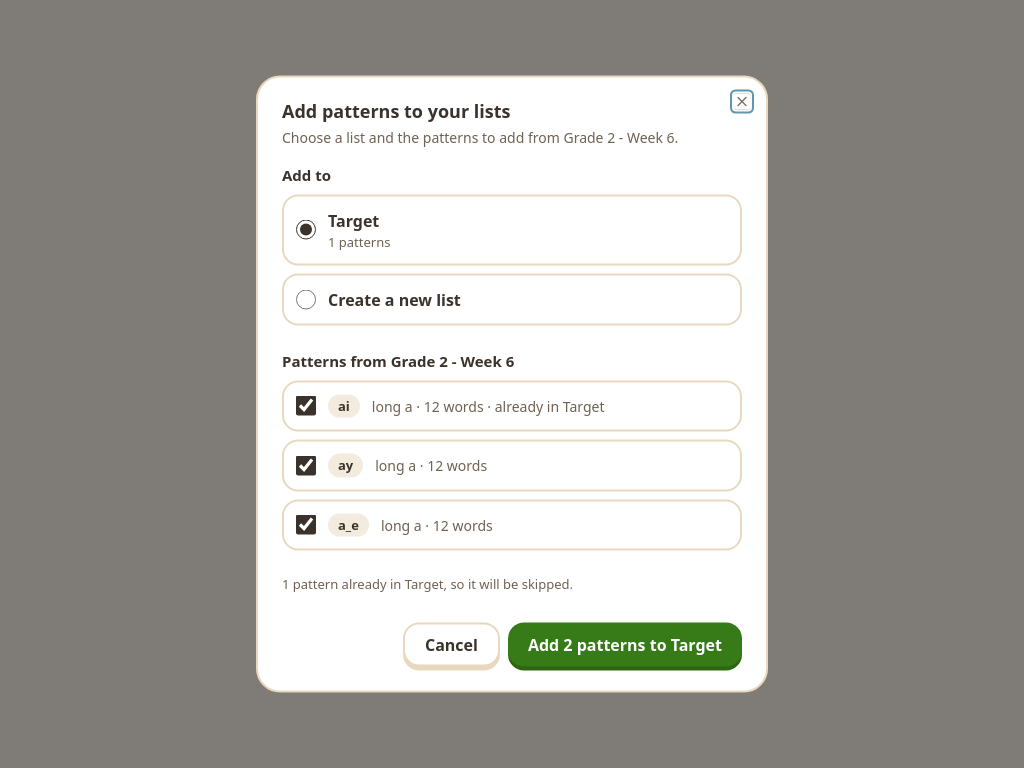
Test case: PullPatternsModal › skips duplicate pattern pairs with a visible reason
Check: the text "Target" is shown, box [328,209,379,231]
Check: the message shows "1 pattern already in Target, so it will be skipped", box [282,574,573,592]
Click the button "Add 2 patterns to Target" at (625, 644), box [508,622,742,666]
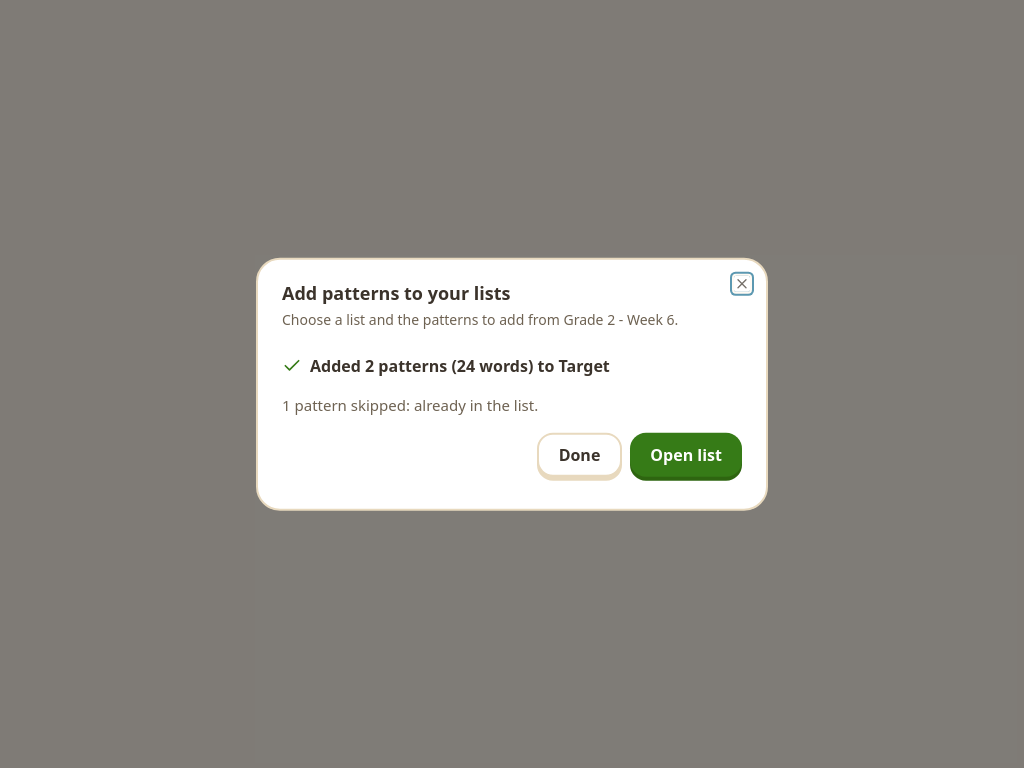
Check: the message shows "Added", box [310,355,365,377]
Check: the text "1 pattern skipped: already in the list." is shown, box [282,395,538,415]
